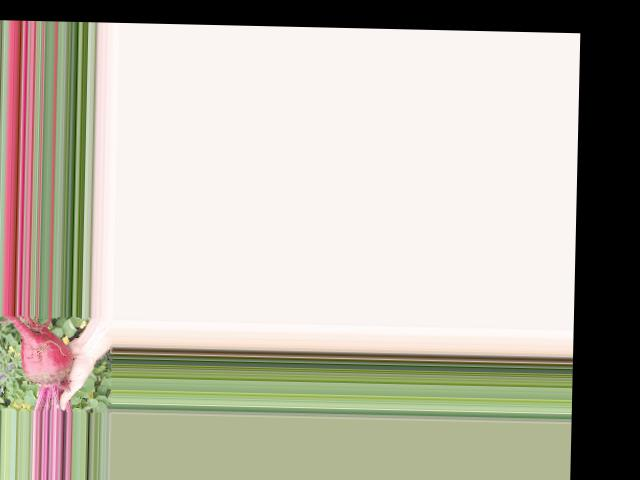beet: (1, 314, 73, 411)
